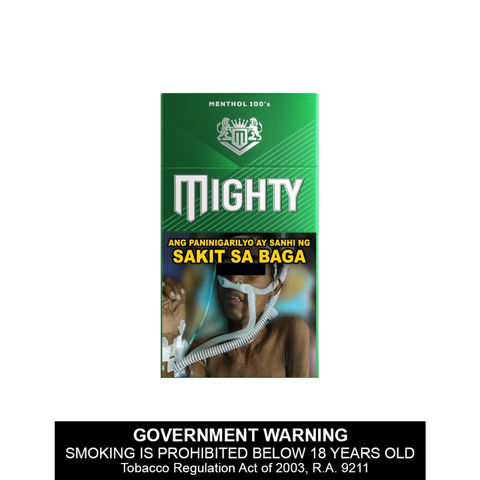toxic_waste: (156, 94, 322, 377)
